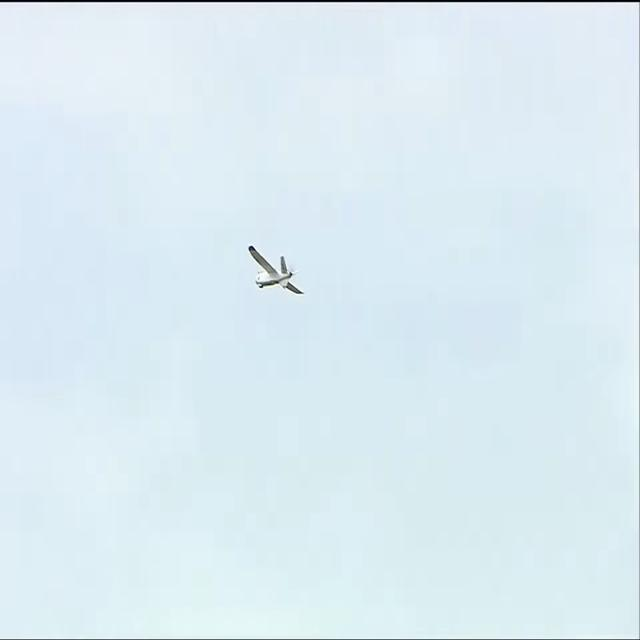iha: (248, 245, 307, 296)
